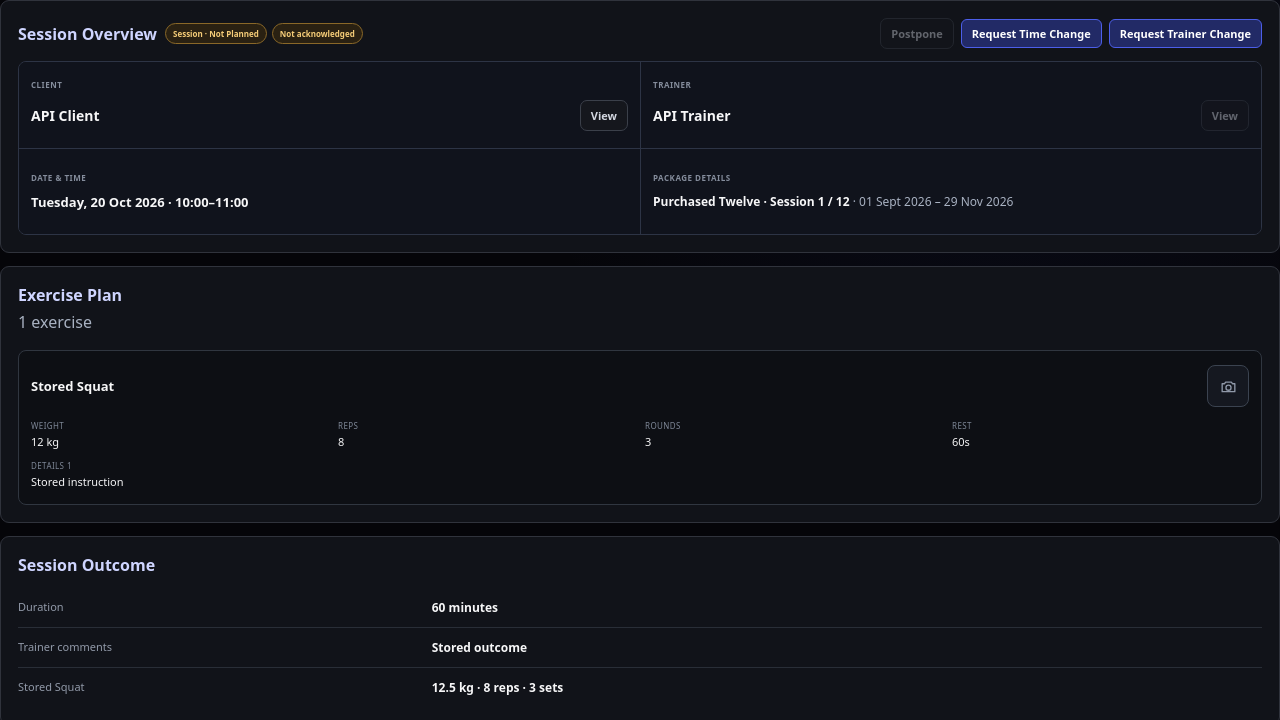
Test: keeps the reviewed time intent frozen after an uncertain response
Click the button "Request Time Change" at (1031, 34), box [961, 19, 1102, 48]
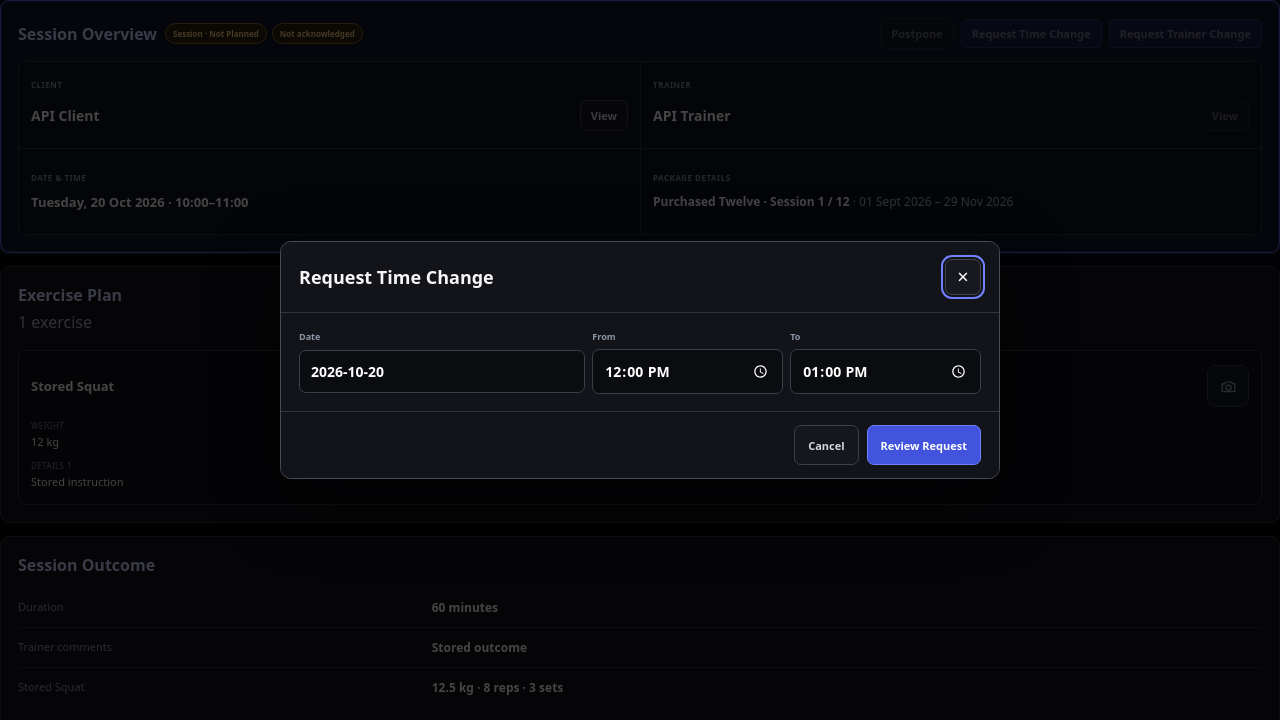
Click the button "Review Request" at (924, 445), box [867, 425, 981, 465]
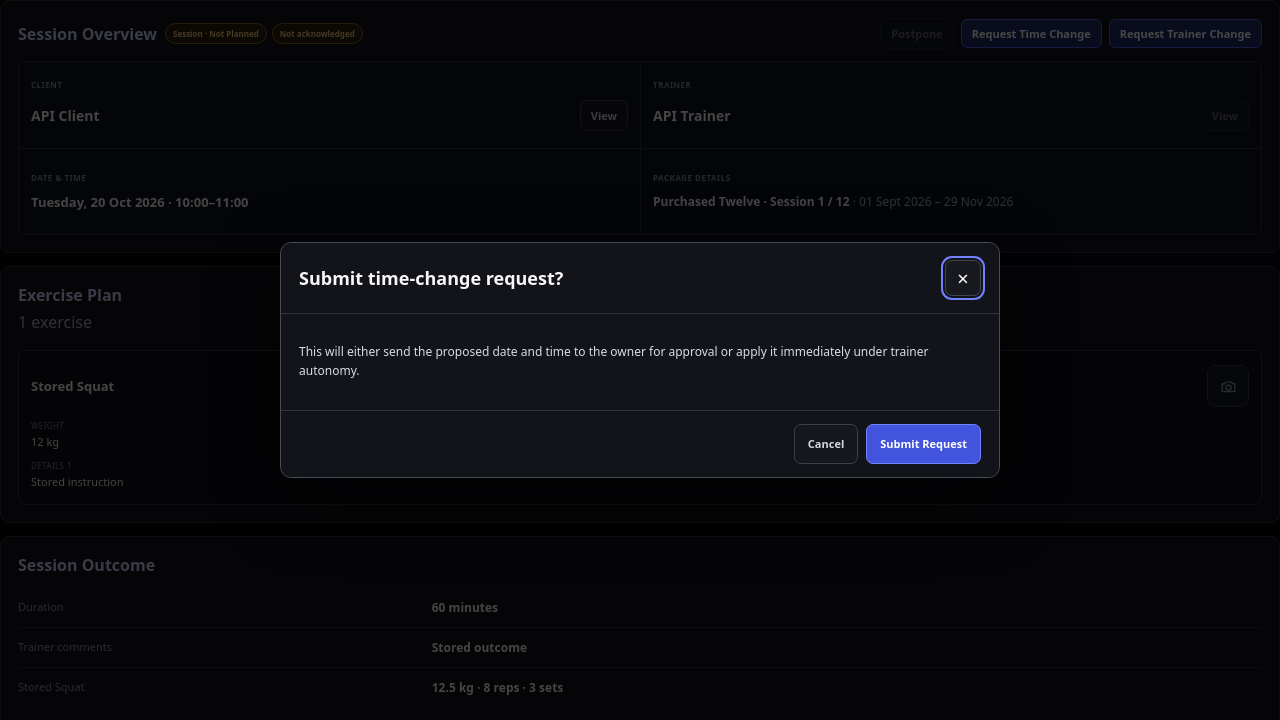
Click the button "Submit Request" at (924, 444), box [866, 424, 981, 464]
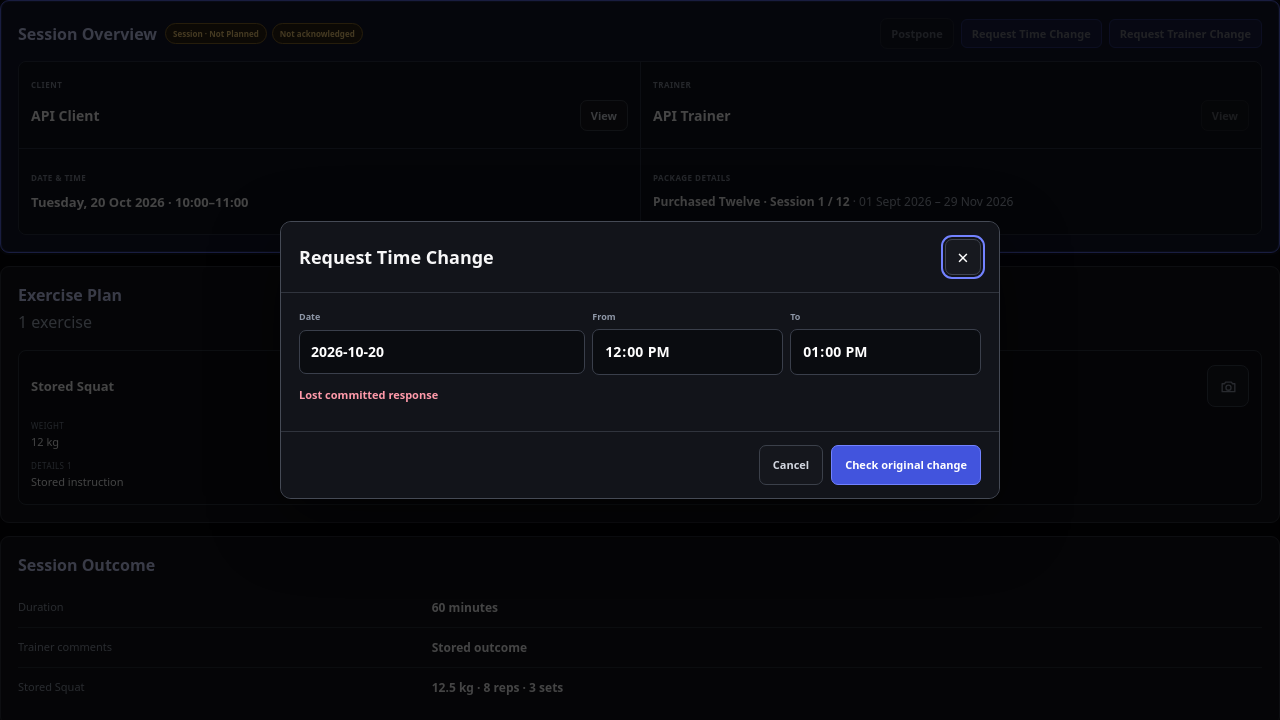
Now the message reads "Lost committed response", box [299, 387, 438, 402]
Now the time field named "Requested start time" is disabled, box [592, 329, 783, 375]
Click the button "Check original change" at (906, 465), box [831, 445, 981, 485]
(page scrolled)
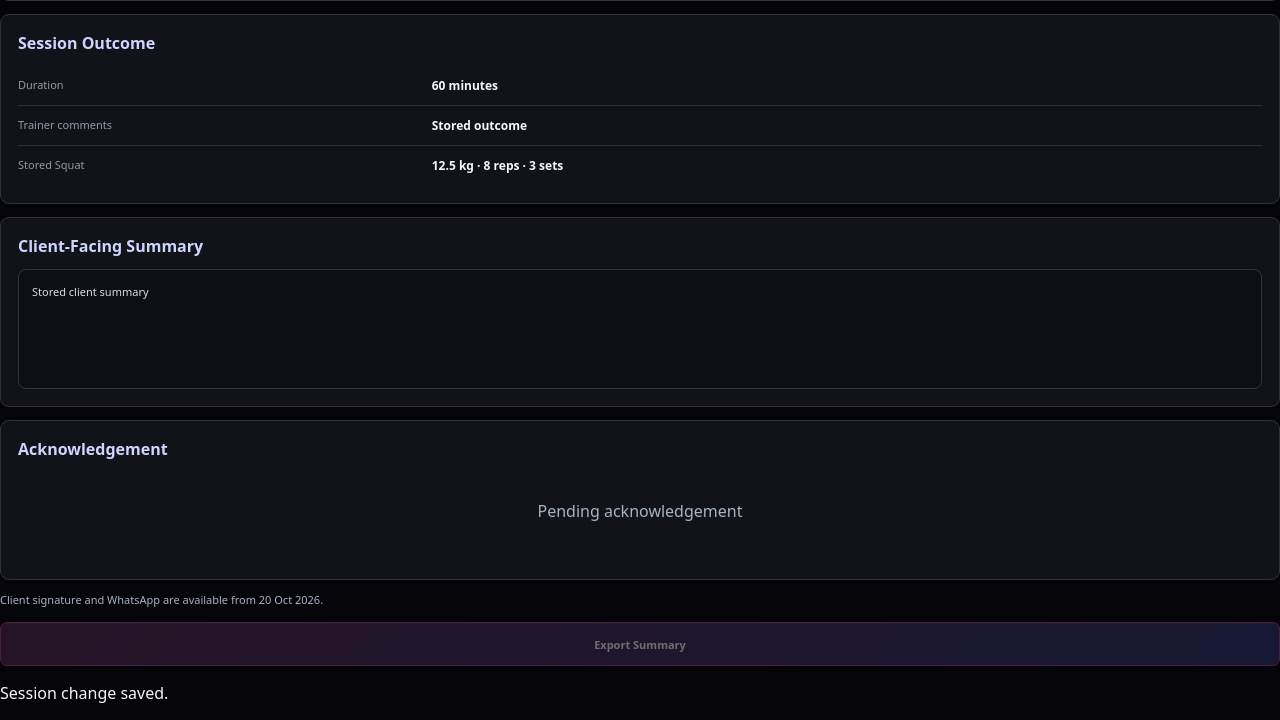
Expected: the button "Export Summary" is disabled, [0, 622, 1279, 666]
Now the text "Session change saved." is shown, box [0, 682, 168, 704]
Now the dialog is gone
